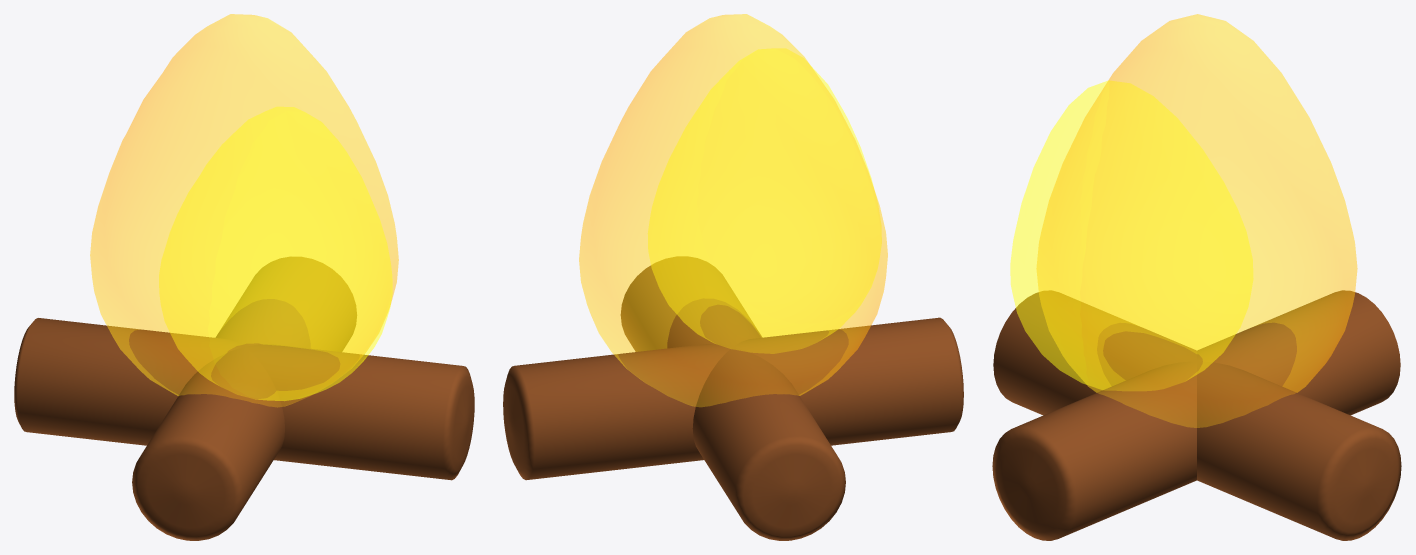
Rendered from campfire.glb.
The picture shows the model from 3 angles, left to right: view 1: azimuth 30°, elevation 25°; view 2: azimuth 150°, elevation 25°; view 3: azimuth 270°, elevation 25°; orthographic projection. The views are drawn at different scales.
Size of what is drawn, in the model's own units: 2.54 by 3.1 by 2.55.
